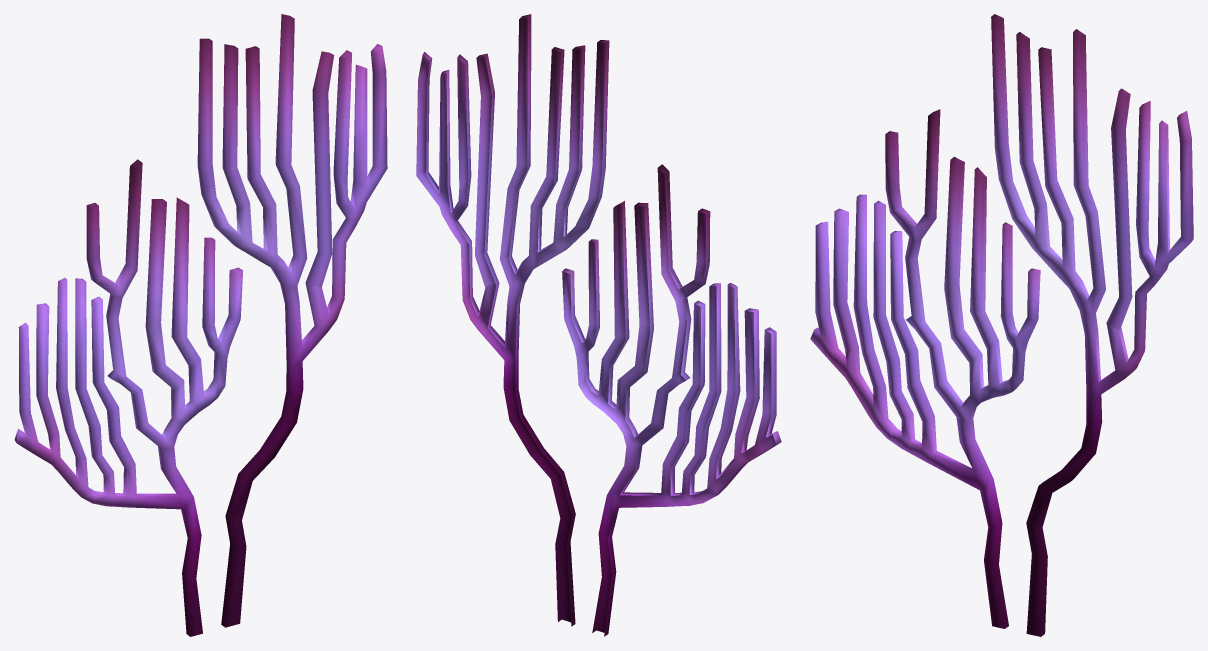
The model's file is Coral01.fbx.
The picture shows the model from 3 angles, left to right: view 1: azimuth 30°, elevation 25°; view 2: azimuth 150°, elevation 25°; view 3: azimuth 330°, elevation 25°; orthographic projection. The views are drawn at different scales.
Visible parts, largest first — view 1: node_id30; view 2: node_id30; view 3: node_id30.
Part boxes in pixels (x1,y1,x2,y2): node_id30: (14, 14, 387, 636); node_id30: (416, 14, 781, 636); node_id30: (810, 14, 1193, 636).
Size of the model in its own units: 0.3282 by 0.512 by 0.0196.
Materials: 1 (1 with a texture image).
